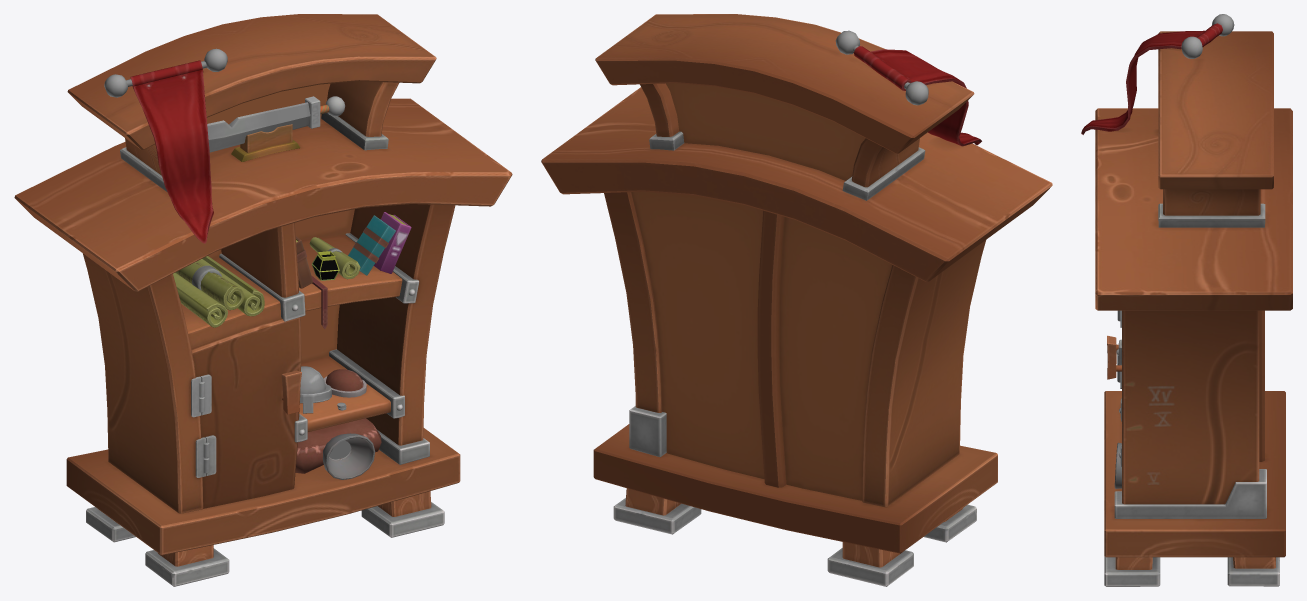
The picture shows the model from 3 angles, left to right: view 1: azimuth 30°, elevation 25°; view 2: azimuth 150°, elevation 25°; view 3: azimuth 270°, elevation 25°; orthographic projection. The views are drawn at different scales.
Parts seen in each view (by area): view 1: board3_low, board2_low, board6_low, board1_low, board10_low, flag]_low, board5_low, leg1_low, sword (×2), armor_low, board4_low, board7_low (+20 smaller); view 2: board8_low, board3_low, board2_low, board6_low, board1_low, board9_low, board4_low, leg1_low, flag]_low, board7_low, leg2_low, metal_low (+2 smaller); view 3: board3_low, board2_low, board6_low, board1_low, metal_low, board7_low, leg1_low, flag]_low, metal2_low, leg2_low, board4_low, flag_holder2_low (+1 smaller).
Boxes of the visible parts, x1,y1,x2,y2 form: board3_low: [14, 98, 512, 291]; board2_low: [83, 204, 455, 513]; board6_low: [67, 14, 436, 149]; board1_low: [66, 428, 460, 555]; board10_low: [191, 317, 301, 508]; flag]_low: [130, 60, 213, 243]; board5_low: [181, 235, 402, 348]; leg1_low: [86, 502, 444, 586]; sword (×2): [207, 102, 310, 161]; armor_low: [295, 418, 381, 479]; board4_low: [221, 223, 298, 297]; board7_low: [125, 81, 399, 175]; board8_low: [631, 191, 892, 500]; board3_low: [541, 87, 1052, 281]; board2_low: [604, 192, 985, 507]; board6_low: [595, 14, 974, 153]; board1_low: [593, 424, 997, 553]; board9_low: [665, 83, 865, 180]; board4_low: [757, 210, 786, 487]; leg1_low: [613, 498, 976, 586]; flag]_low: [853, 46, 981, 146]; board7_low: [640, 83, 919, 187]; leg2_low: [625, 488, 962, 567]; metal_low: [629, 406, 666, 457]; board3_low: [1095, 108, 1292, 310]; board2_low: [1122, 310, 1259, 504]; board6_low: [1158, 31, 1273, 189]; board1_low: [1104, 391, 1285, 557]; metal_low: [1114, 469, 1266, 518]; board7_low: [1163, 189, 1260, 215]; leg1_low: [1104, 556, 1279, 586]; flag]_low: [1081, 23, 1222, 134]; metal2_low: [1158, 203, 1265, 227]; leg2_low: [1115, 557, 1275, 569]; board4_low: [1259, 310, 1264, 461]; flag_holder2_low: [1181, 14, 1234, 58].
Size of the model in its own units: 627 by 735 by 304.
1 material, 1 textured.
